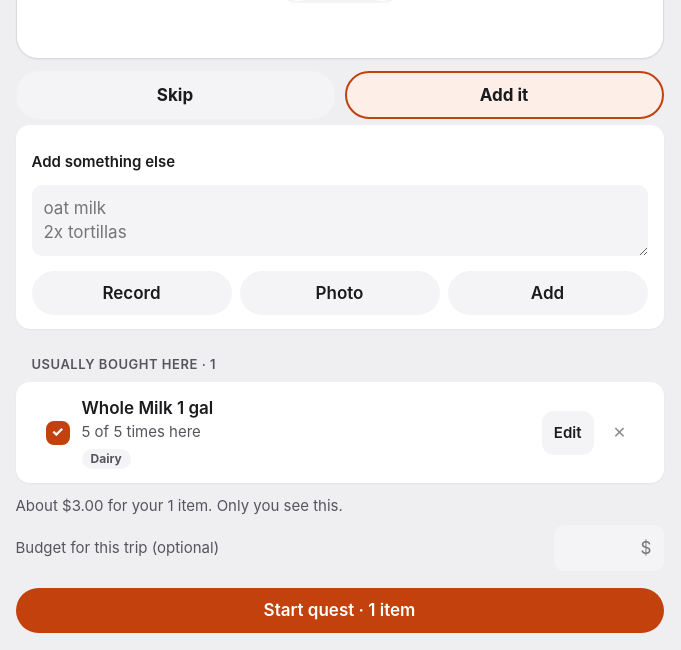
Test: the saved draft, the budget, the end › the budget keeps digits and a dot, and persists
(page scrolled)
Type "$7x4.5" into the field with id "nl-budget" at (608, 548), box [554,525,664,571]
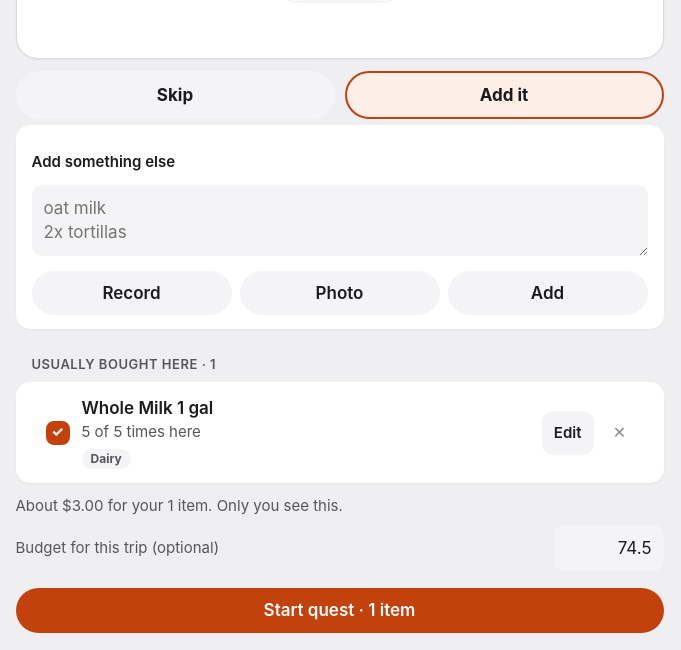
Now the field with id "nl-budget" holds "74.5", box [554,525,664,571]
